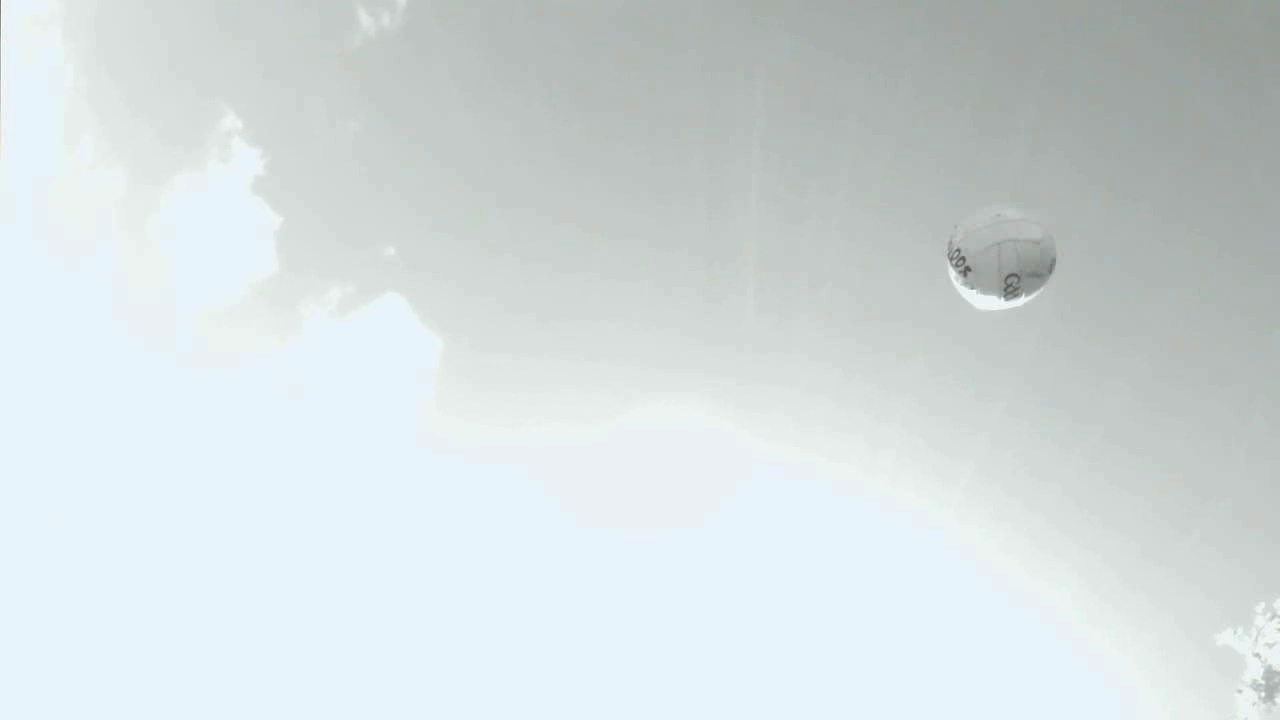Football-Spotter: (946, 207, 1055, 310)
